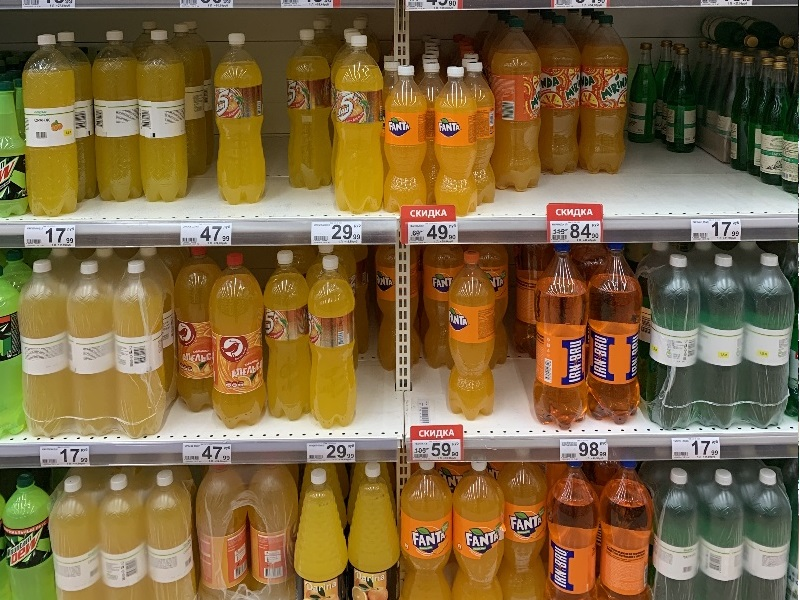lemonade: (529, 242, 598, 430), (202, 30, 274, 208), (19, 30, 84, 221), (86, 29, 152, 208), (586, 239, 647, 429), (329, 34, 390, 221), (208, 253, 270, 435), (278, 28, 344, 192), (305, 255, 361, 435), (445, 250, 502, 425), (260, 250, 315, 429), (135, 29, 190, 207), (490, 18, 544, 195), (531, 16, 584, 179), (579, 12, 631, 177), (378, 64, 436, 210), (430, 63, 485, 213)
